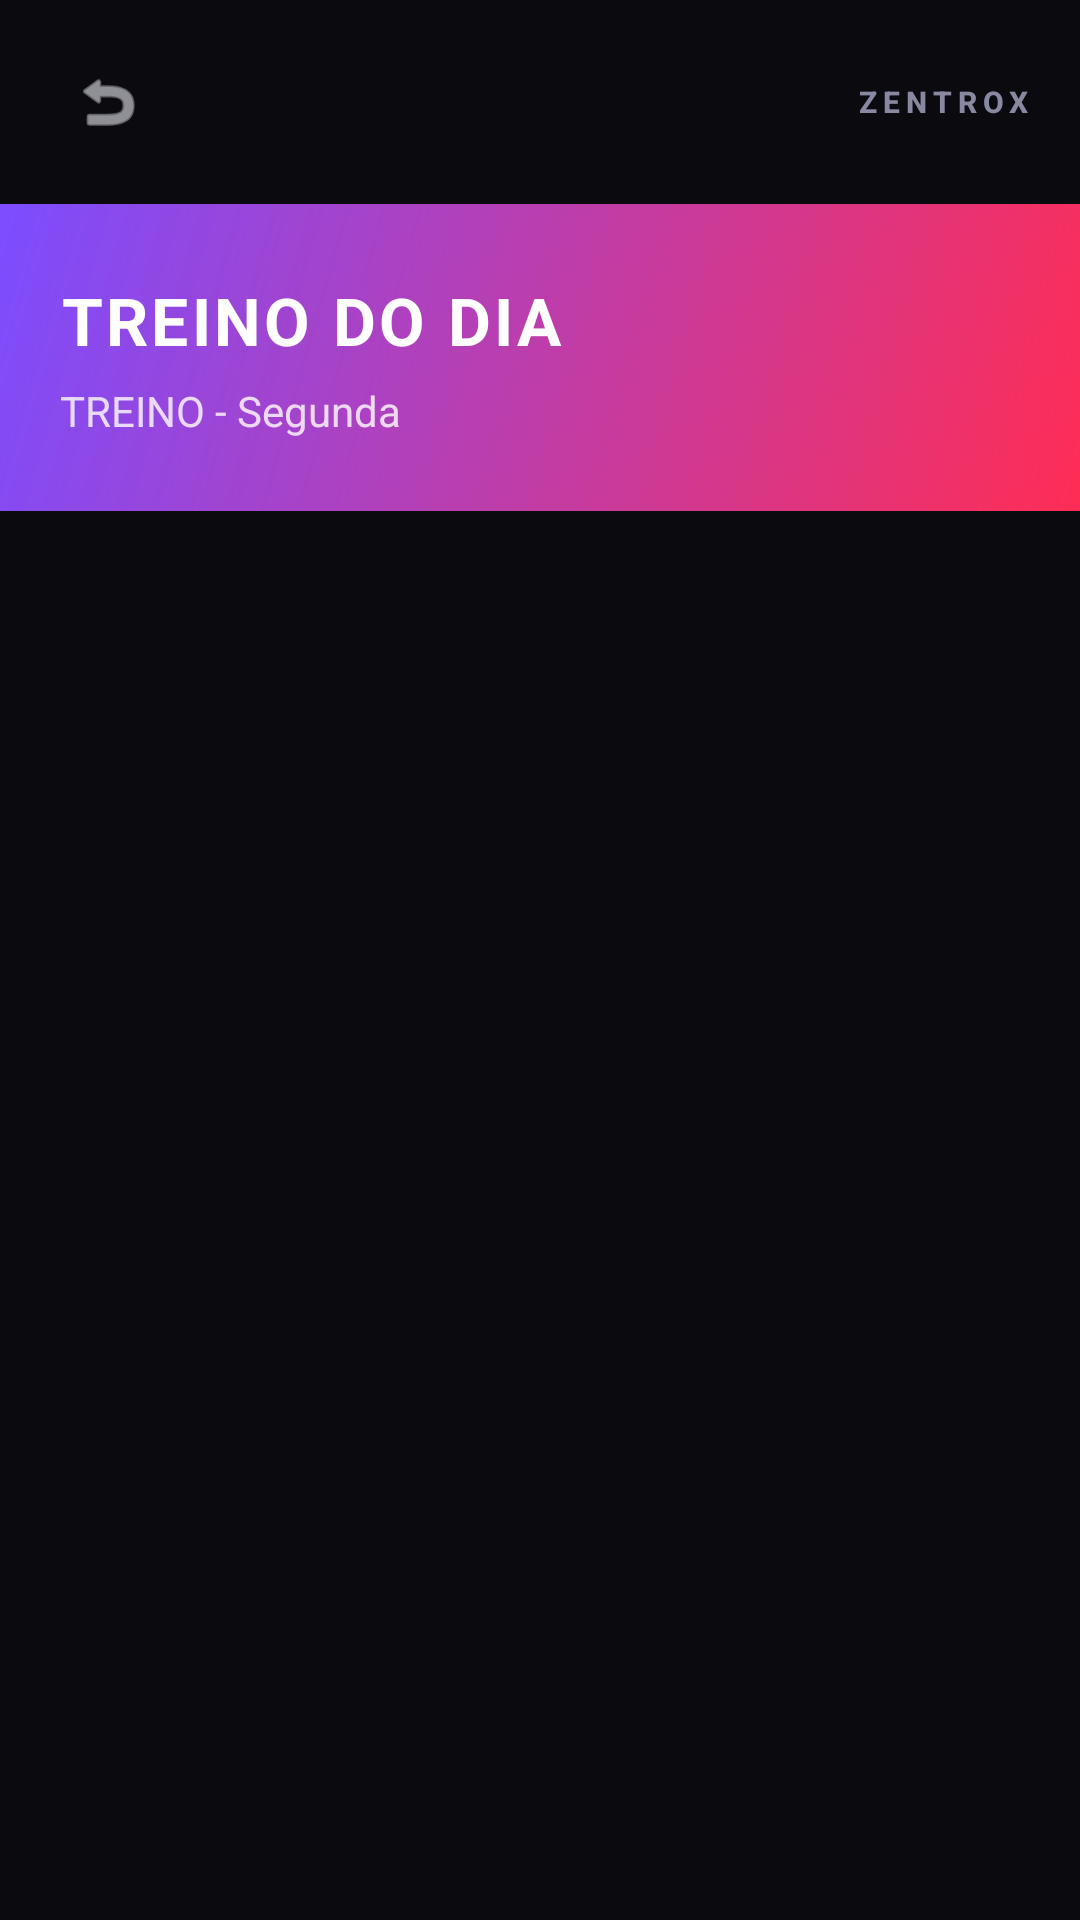

Icon bounding boxes for this 1080×1920 phone screenshot, format Rect(x1, y1, x2, y2):
Voltar: Rect(83, 79, 135, 126)
